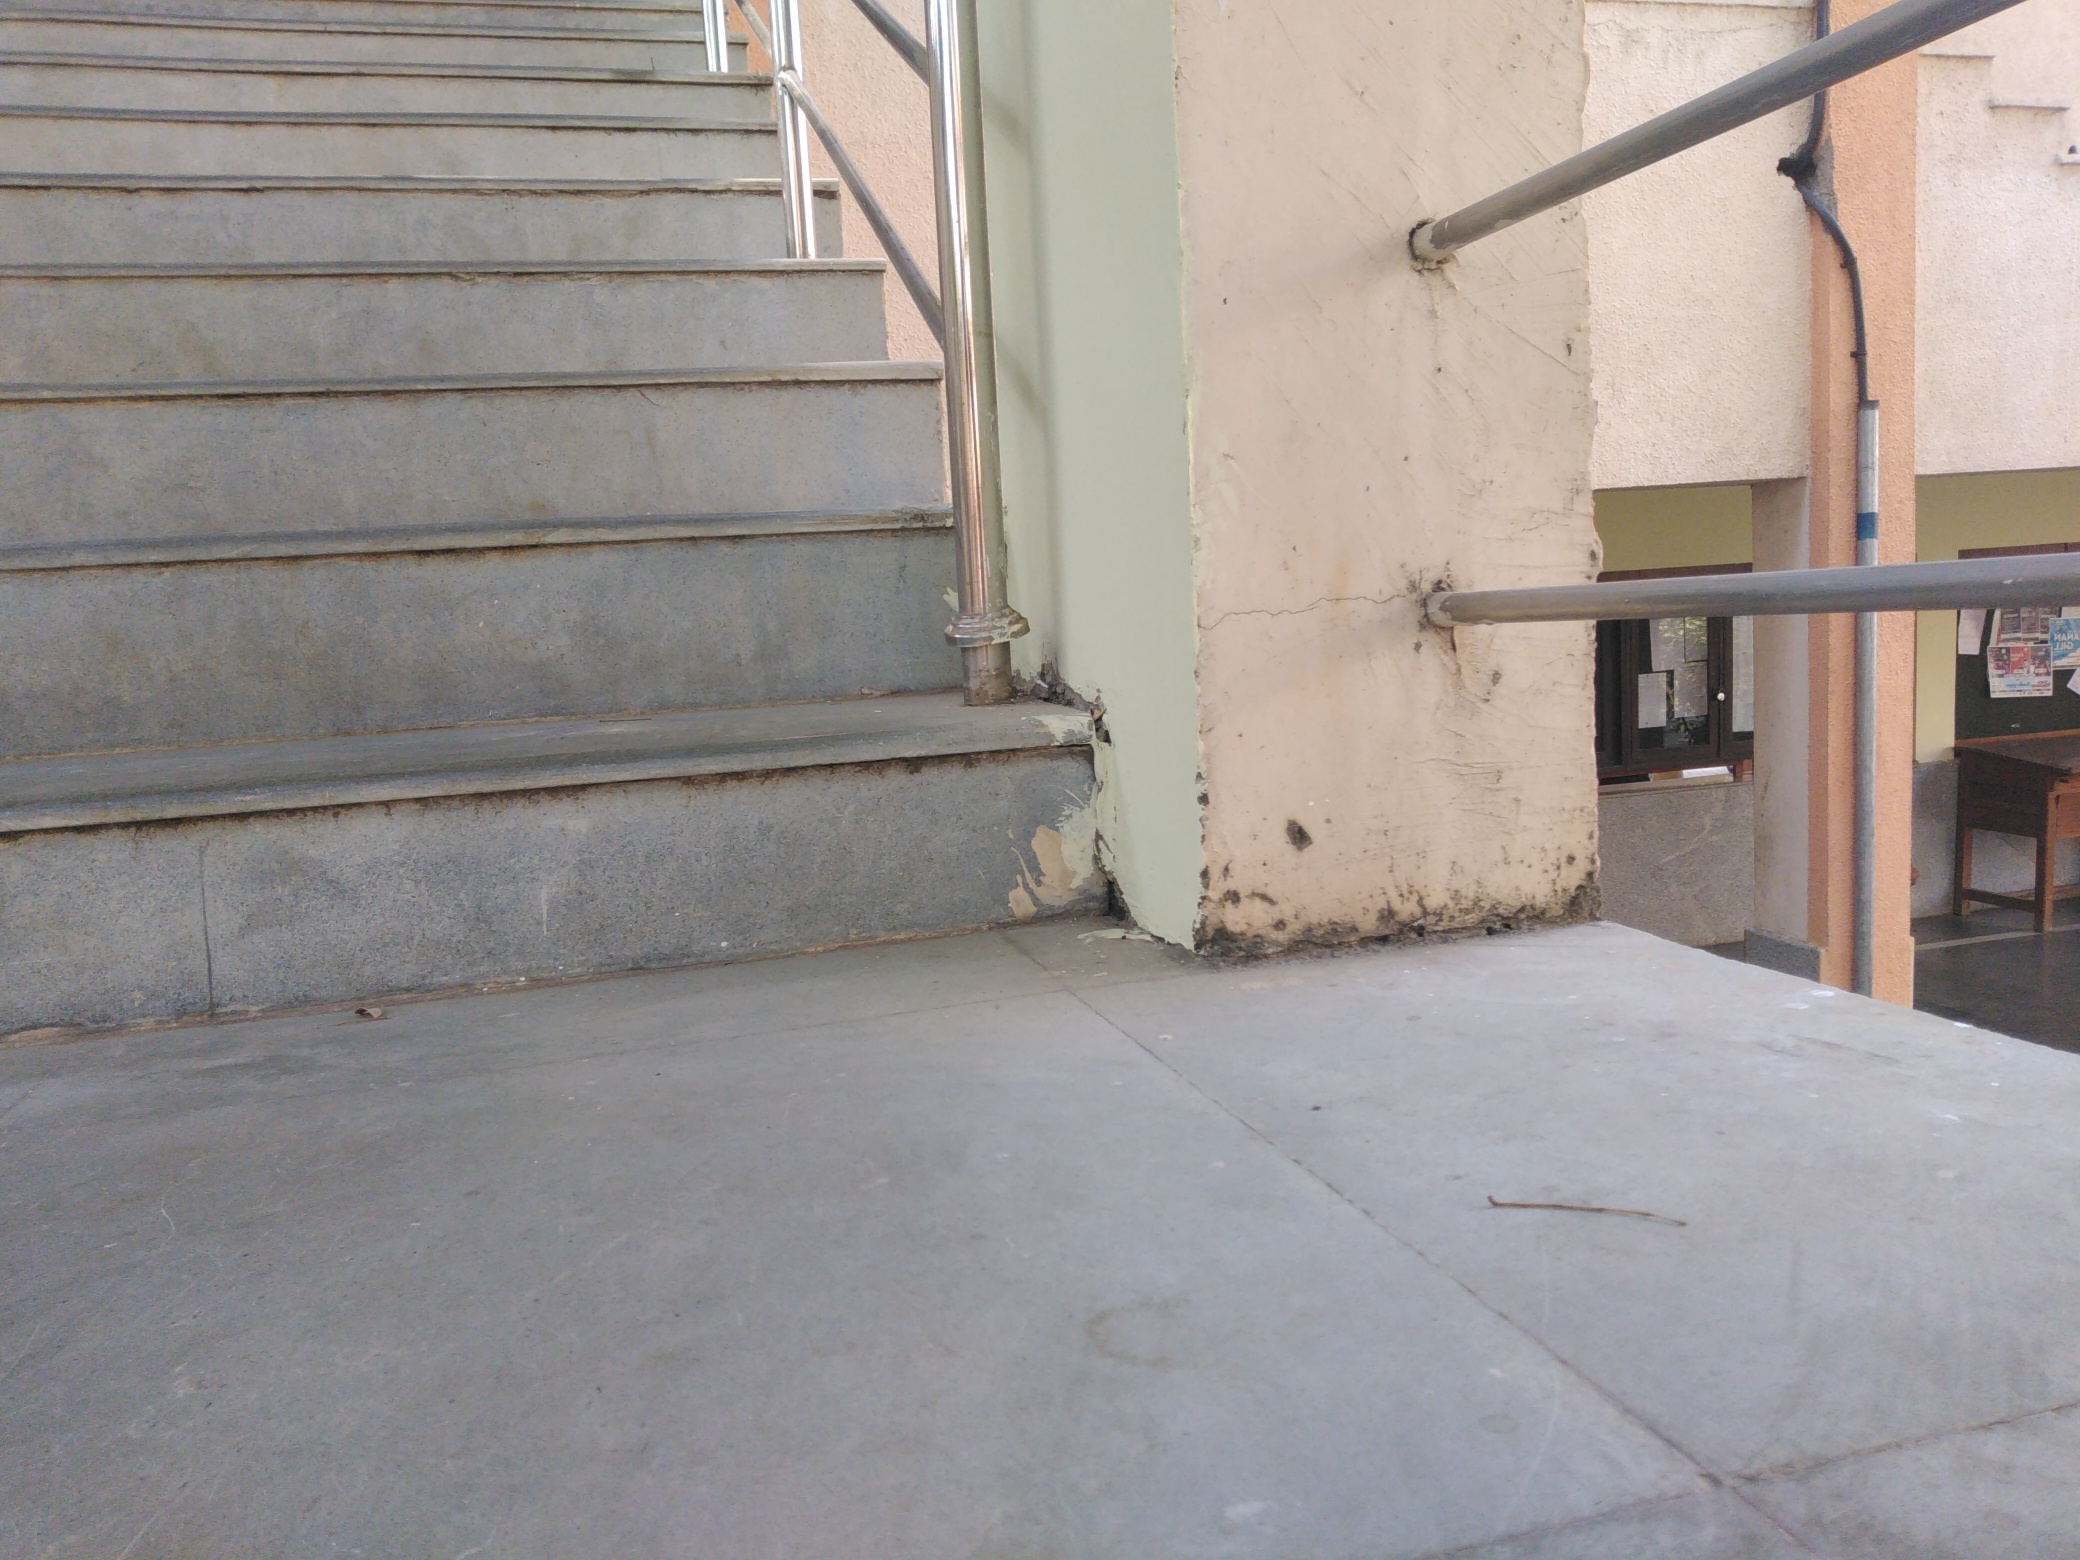stairs_up: (8, 28, 1084, 1000)
